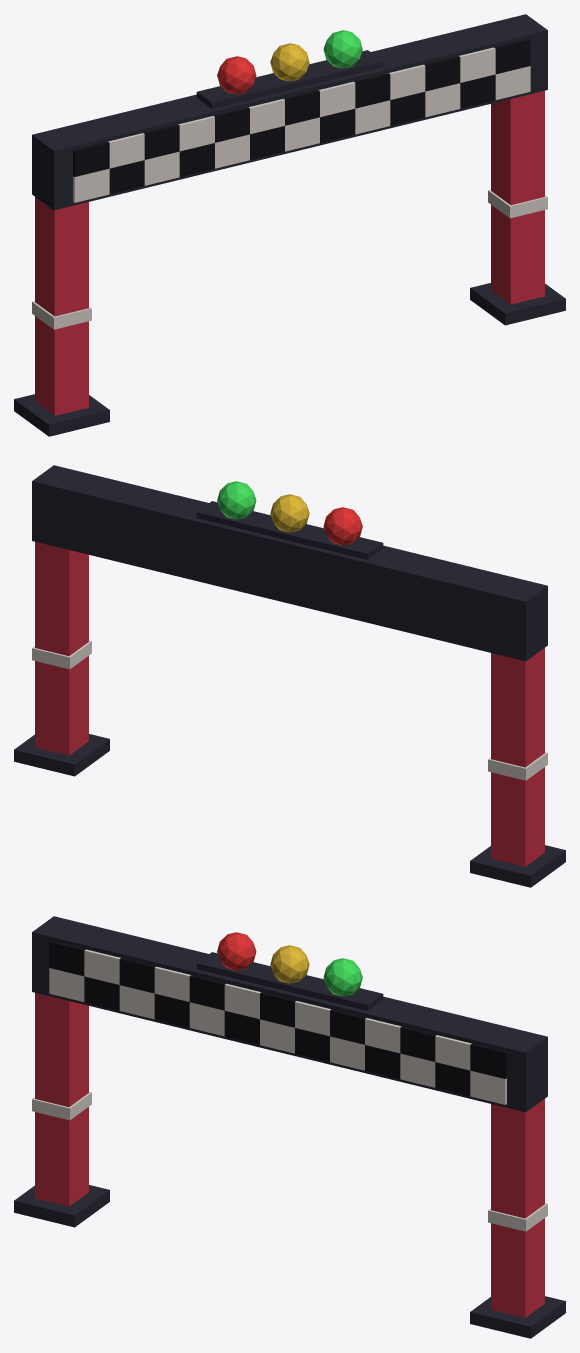
File: start_arch.glb
The picture shows the model from 3 angles, top to bottom: view 1: azimuth 30°, elevation 25°; view 2: azimuth 150°, elevation 25°; view 3: azimuth 330°, elevation 25°; orthographic projection.
Visible parts, largest first — view 1: start_arch; view 2: start_arch; view 3: start_arch.
Boxes of the visible parts, left/top/right/bottom form: start_arch: left=14, top=14, right=565, bottom=436; start_arch: left=14, top=465, right=565, bottom=887; start_arch: left=14, top=916, right=565, bottom=1338.
Bounding box in the file's own units: 2.72 × 1.59 × 0.32.
